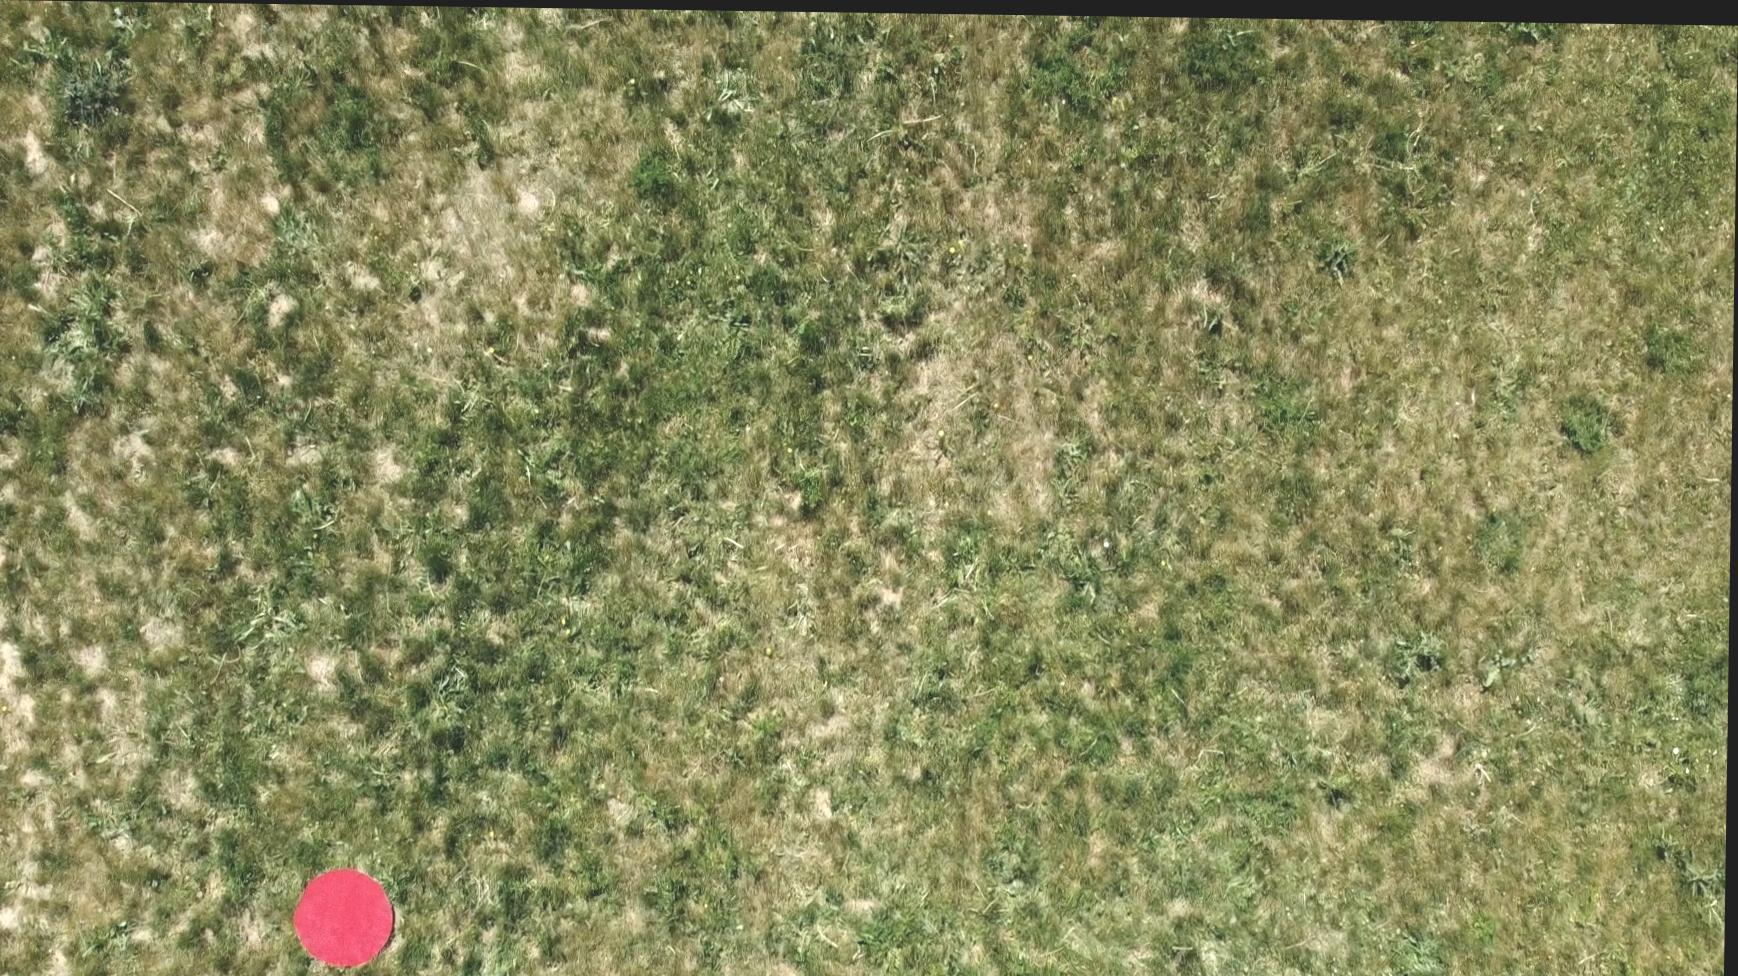Red: (295, 865, 401, 969)
